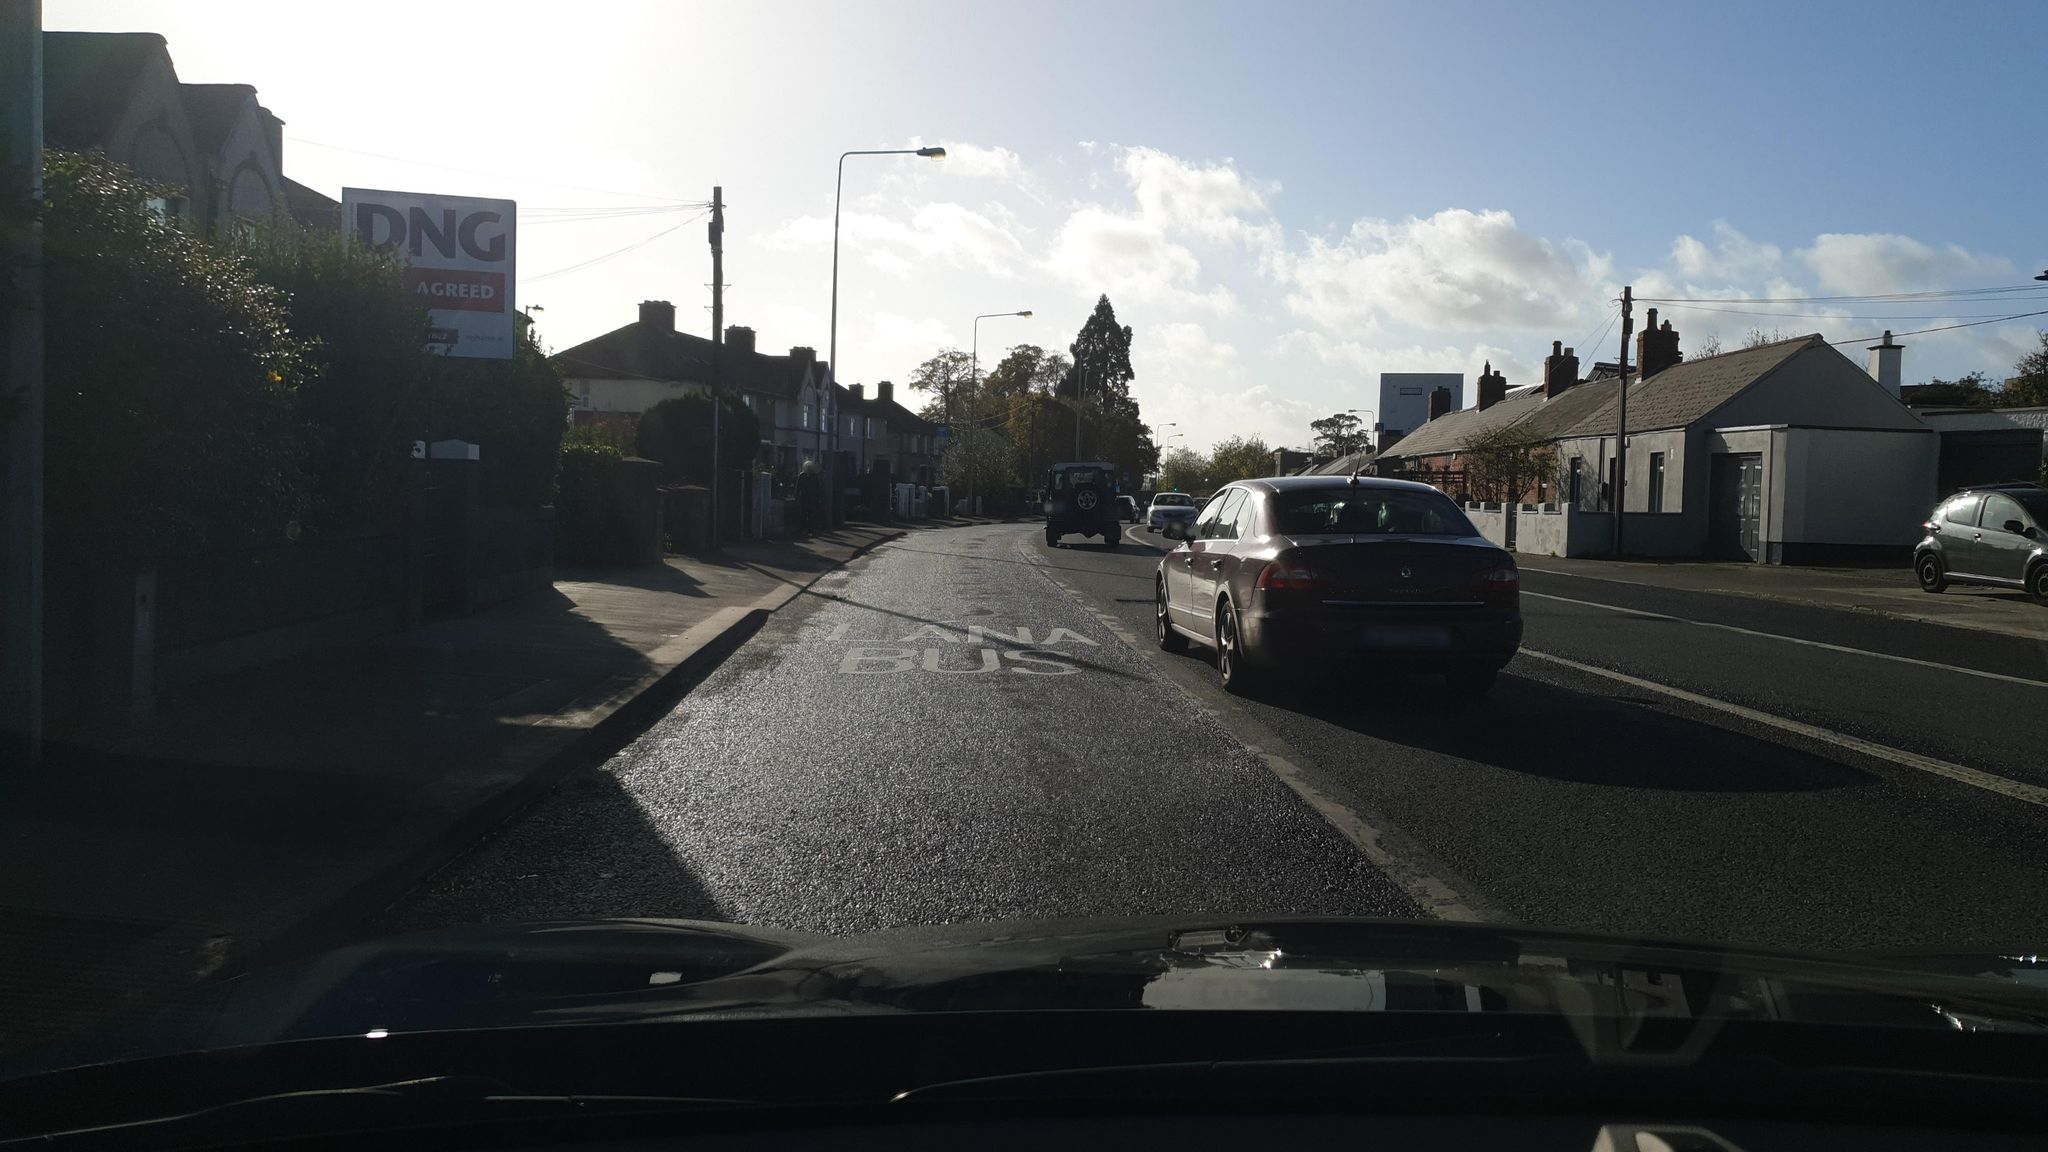property sign: (322, 165, 544, 398)
